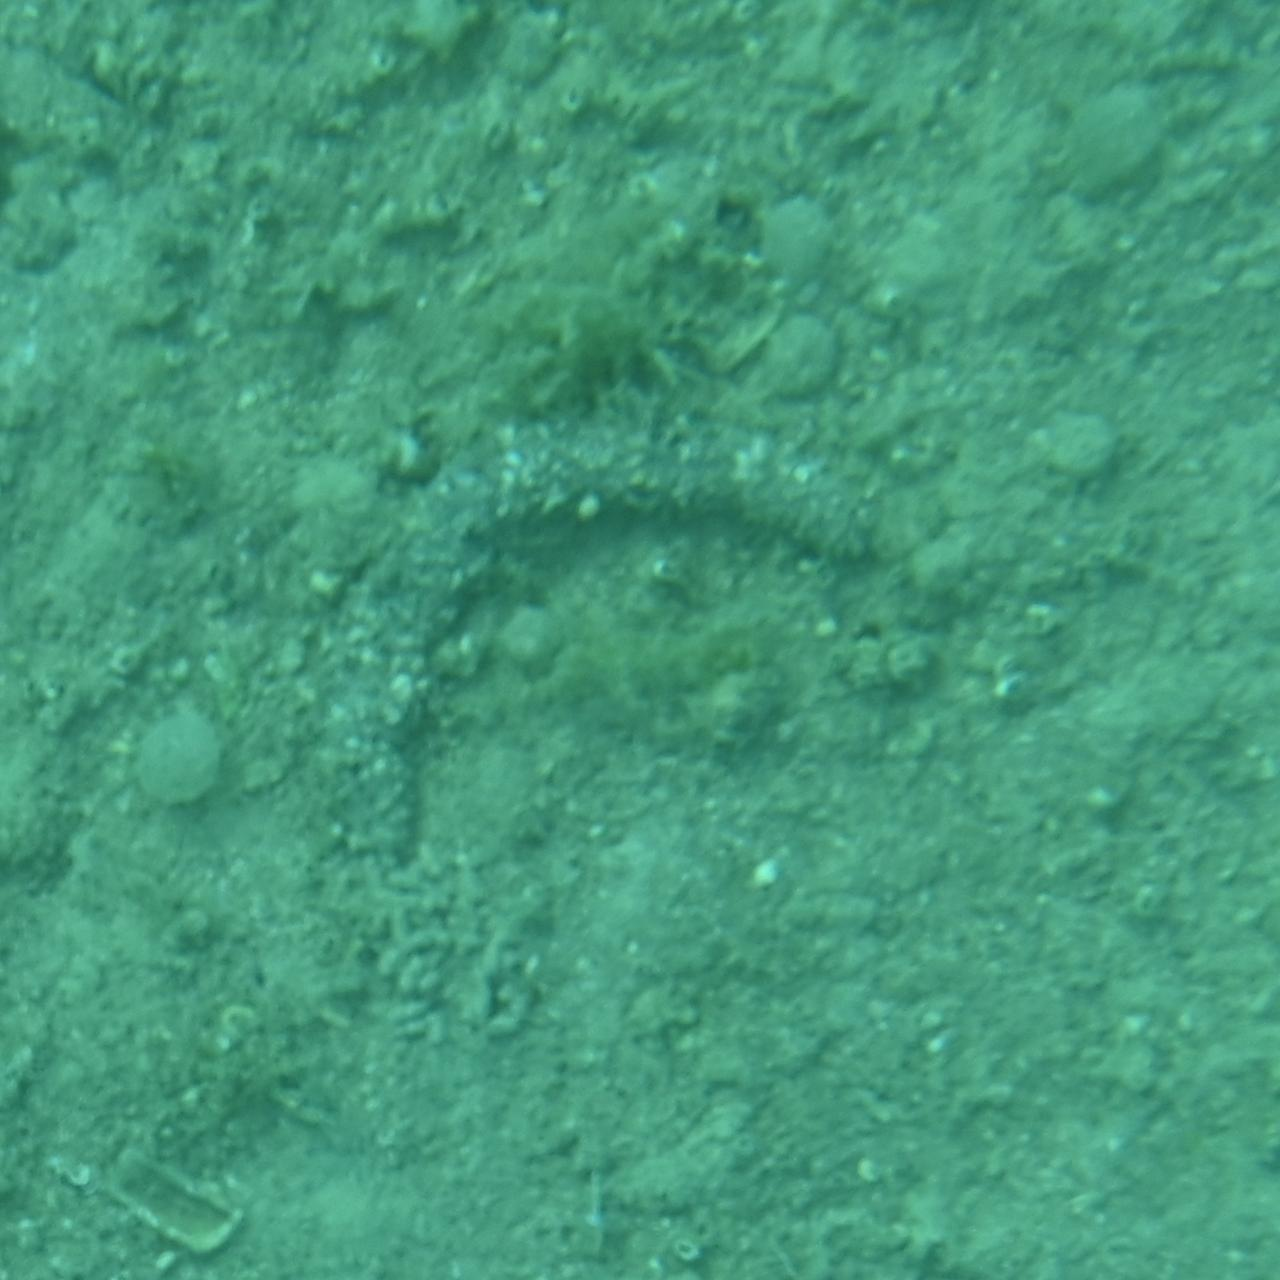Holothuria tubulosa: (326, 394, 954, 886)
